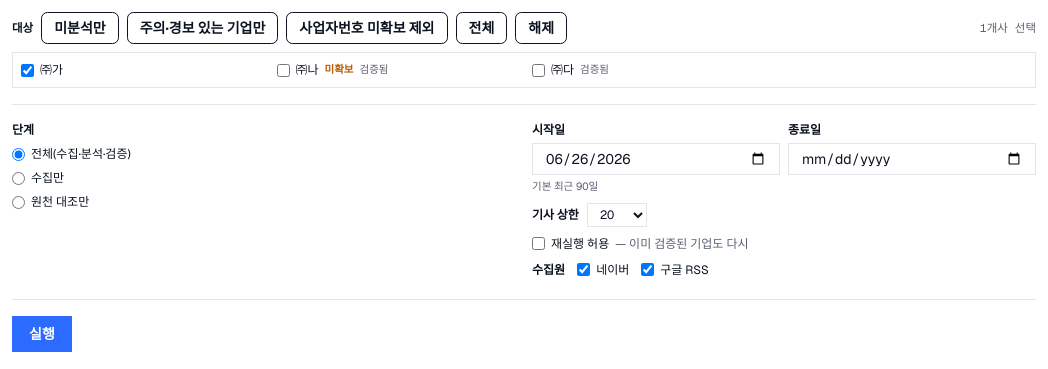
Test: BatchRunner › a failed start hands the 실행 button back
Click the button "실행" at (42, 334), box [12,316,72,352]
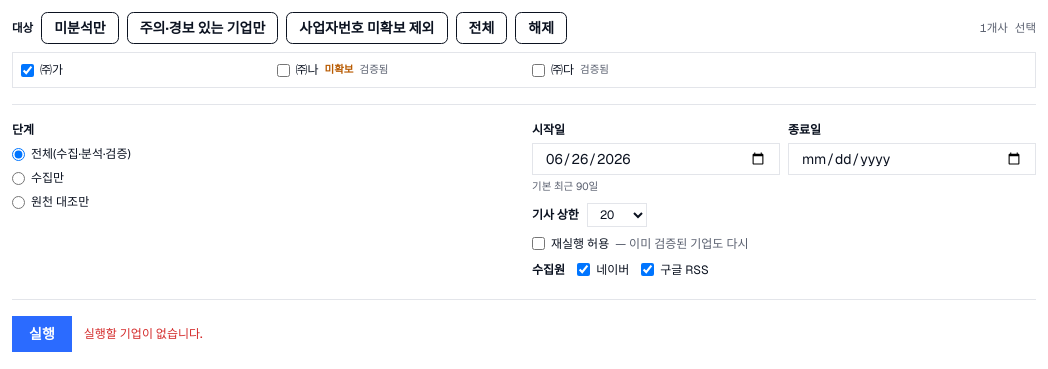
Expected: the message reads "실행할 기업이 없습니다.", [84,326,203,342]
